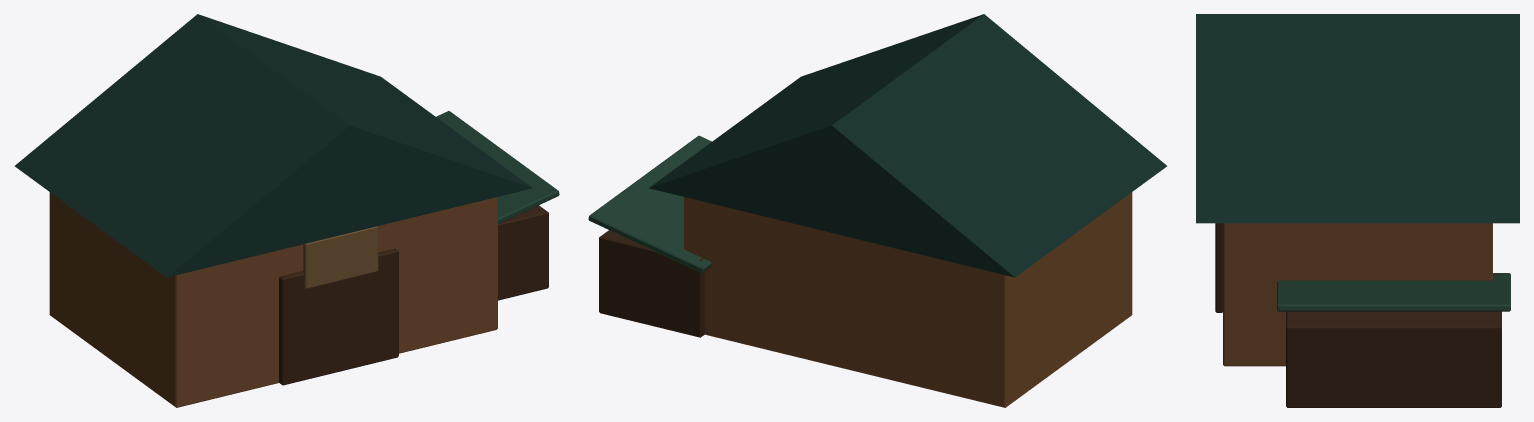
Rendered from LumenFarmBarnV2.glb.
3 renders of one model, left to right at view 1: azimuth 30°, elevation 25°; view 2: azimuth 150°, elevation 25°; view 3: azimuth 270°, elevation 25°, orthographic. The views are drawn at different scales.
Parts seen in each view (by area): view 1: LumenFarmBarnV2; view 2: LumenFarmBarnV2; view 3: LumenFarmBarnV2.
Part boxes in pixels (x1=…): LumenFarmBarnV2: x1=14, y1=14, x2=559, y2=407; LumenFarmBarnV2: x1=588, y1=14, x2=1166, y2=407; LumenFarmBarnV2: x1=1196, y1=14, x2=1519, y2=407.
Bounding box in the file's own units: 29.44 × 16.5 × 18.
1 material, 1 textured.
